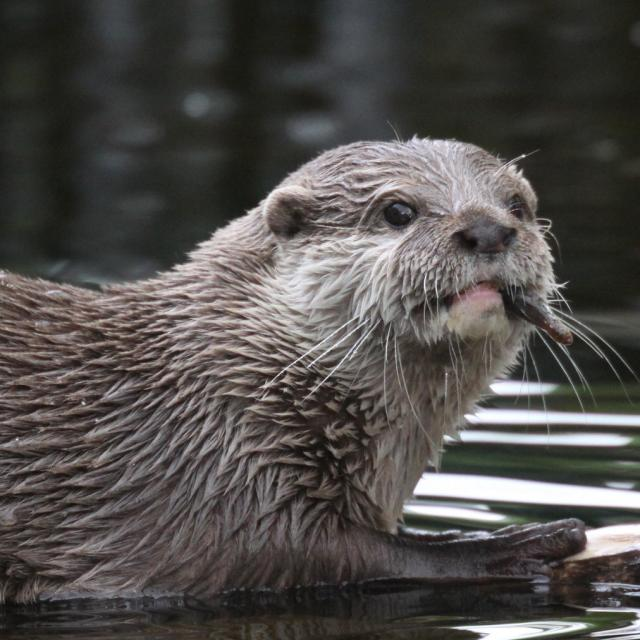otter: (1, 141, 583, 592)
